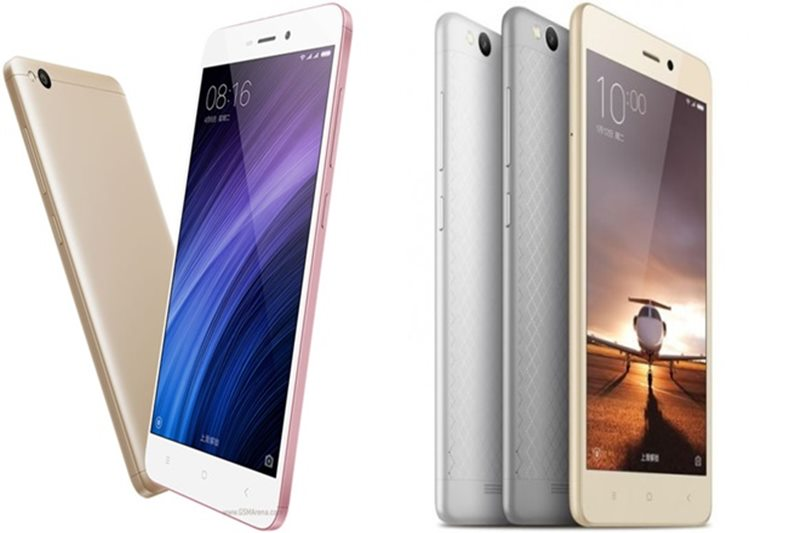mobile: (146, 6, 351, 533)
